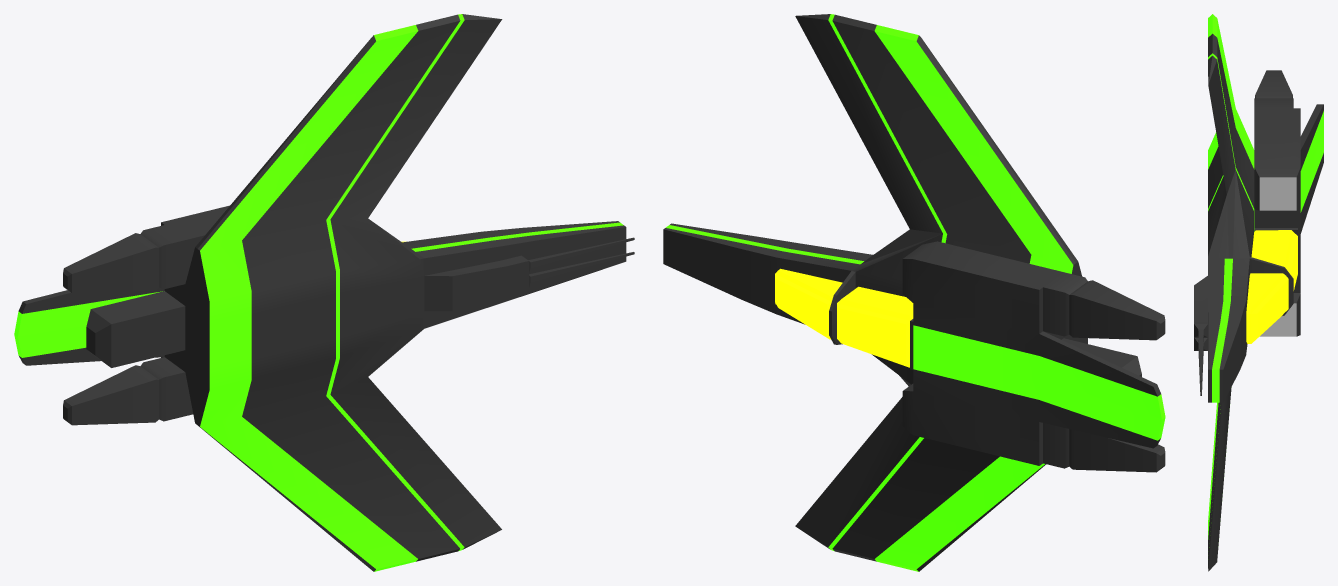
File: enemy ship green.fbx
3 views of the same model, side by side, from view 1: azimuth 30°, elevation 25°; view 2: azimuth 150°, elevation 25°; view 3: azimuth 270°, elevation 25° (orthographic). The views are drawn at different scales.
Parts seen in each view (by area): view 1: Enemy Ship Green; view 2: Enemy Ship Green; view 3: Enemy Ship Green.
Part boxes in pixels (box(x1,y1,x2,y2)): Enemy Ship Green: box(14, 14, 634, 571); Enemy Ship Green: box(663, 14, 1165, 571); Enemy Ship Green: box(1194, 14, 1323, 571).
Size of the model in its own units: 1321 by 1219 by 280.
